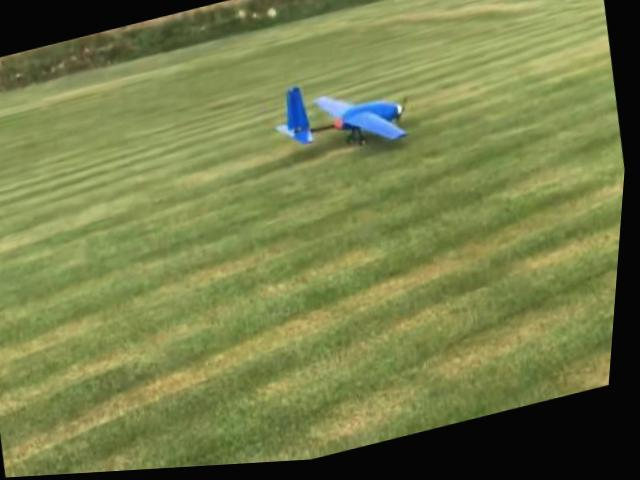uav: (262, 49, 425, 185)
